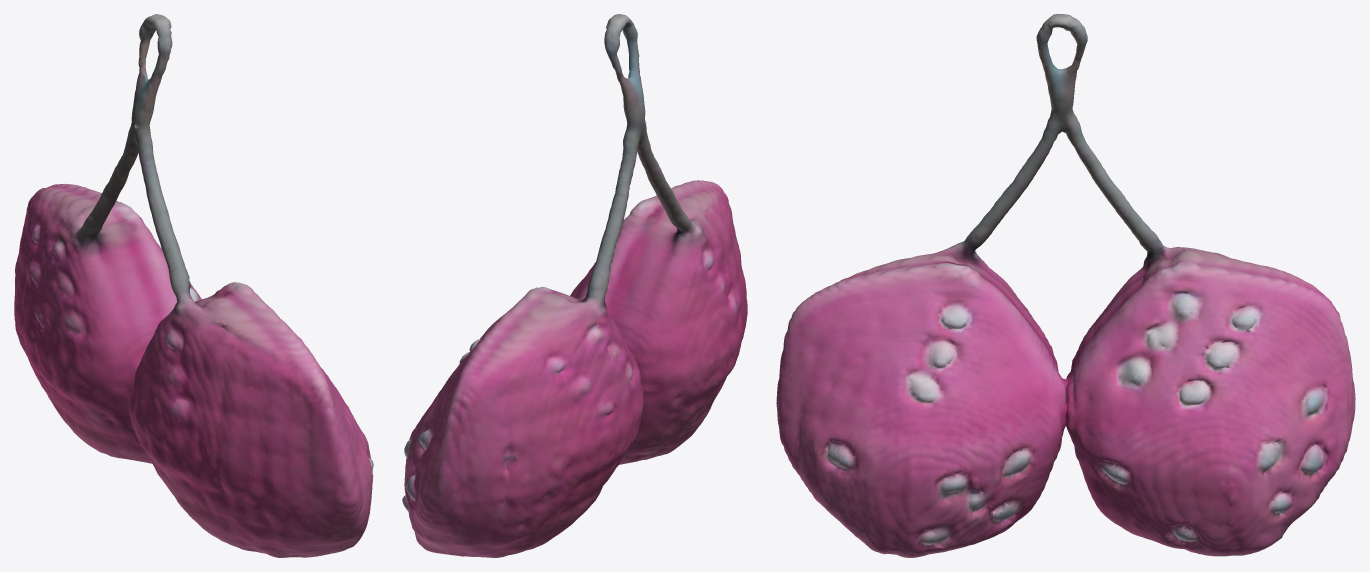
Rendered from dangle_testing_coals.glb.
The picture shows the model from 3 angles, left to right: view 1: azimuth 30°, elevation 25°; view 2: azimuth 150°, elevation 25°; view 3: azimuth 270°, elevation 25°; orthographic projection.
Visible parts, largest first — view 1: meshsave_00001_.obj; view 2: meshsave_00001_.obj; view 3: meshsave_00001_.obj.
Boxes of the visible parts, x1=… form: meshsave_00001_.obj: x1=14, y1=14, x2=373, y2=557; meshsave_00001_.obj: x1=402, y1=14, x2=747, y2=557; meshsave_00001_.obj: x1=776, y1=14, x2=1355, y2=557.
Size of the model in its own units: 0.3626 by 0.9236 by 0.9781.
